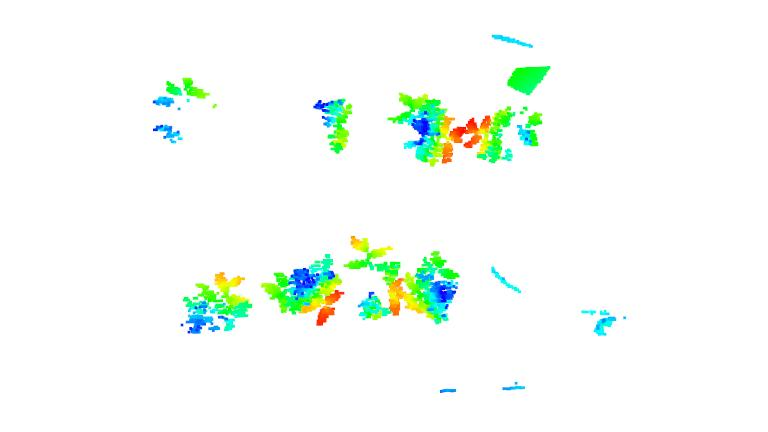chickpea: (340, 230, 406, 328), (457, 100, 551, 168), (389, 87, 456, 180), (166, 270, 256, 336), (261, 256, 347, 325), (147, 70, 217, 148), (399, 250, 469, 326), (310, 95, 359, 160)
